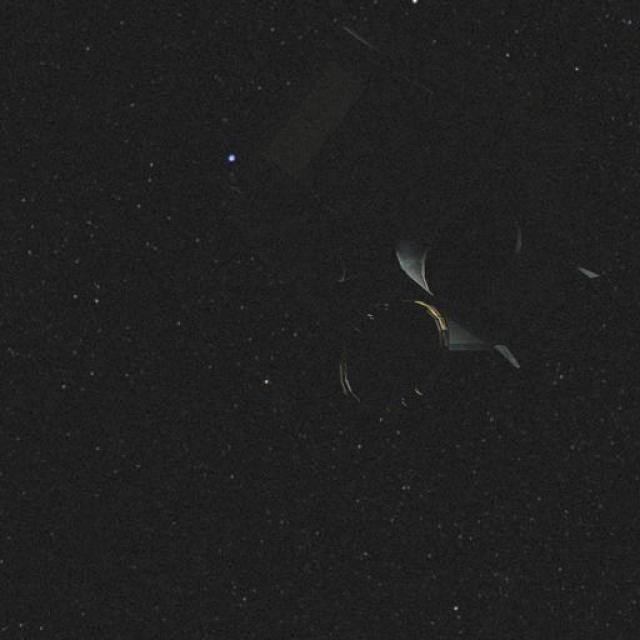cheops: (254, 15, 614, 412)
